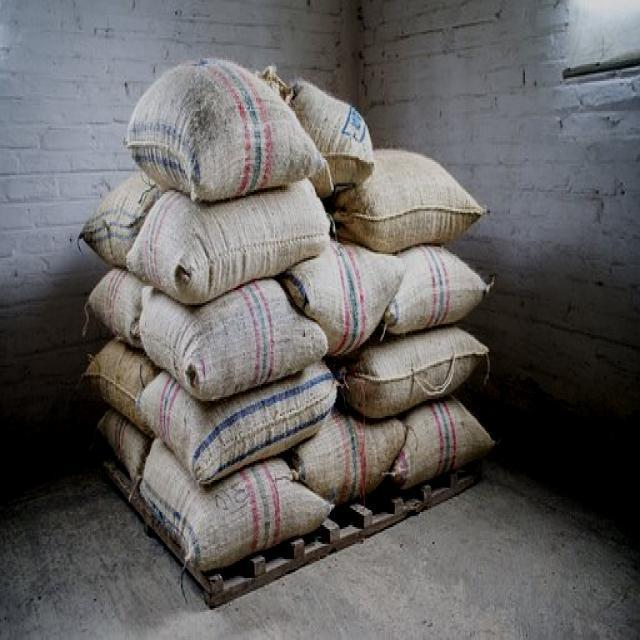gunny_bag: (125, 47, 325, 198), (132, 354, 342, 492), (121, 174, 328, 309), (132, 439, 333, 578), (136, 272, 328, 402), (325, 137, 483, 260), (327, 324, 492, 424), (276, 232, 404, 360), (262, 72, 376, 198), (376, 390, 498, 494), (285, 402, 403, 509), (374, 238, 490, 339), (81, 334, 158, 441), (80, 172, 162, 271), (86, 261, 145, 348), (91, 409, 152, 488)
